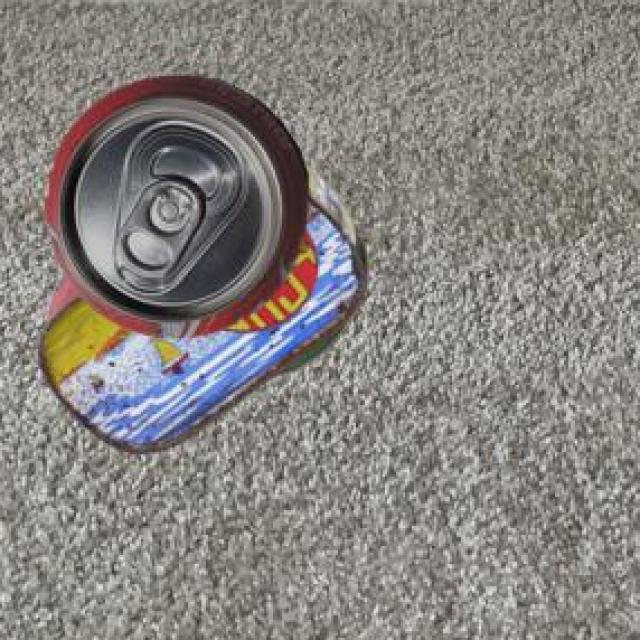logam: (41, 160, 368, 451), (48, 73, 312, 335), (282, 229, 370, 373)
